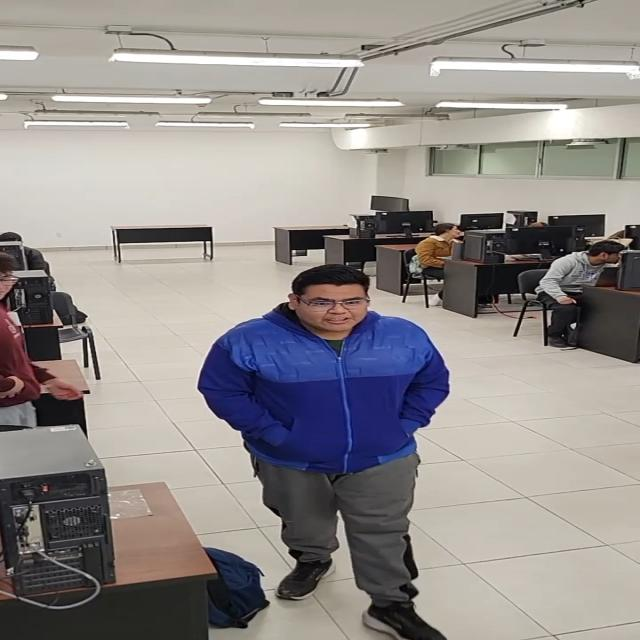Persona: (196, 263, 453, 640)
